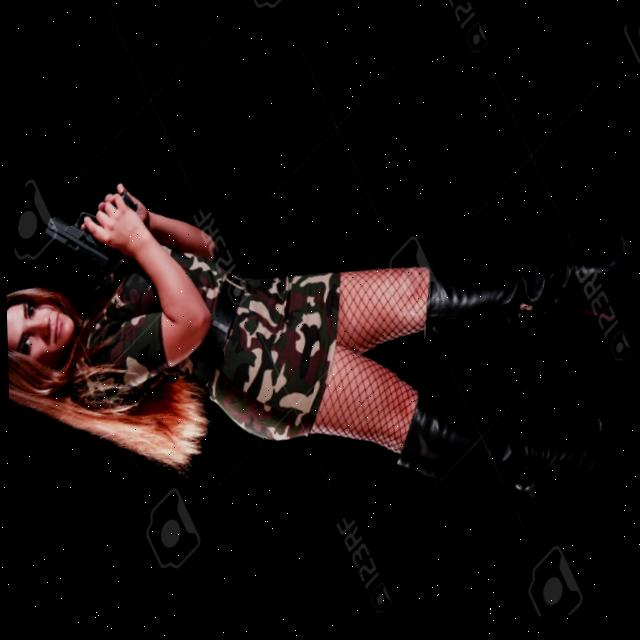pistol: (33, 176, 140, 284)
